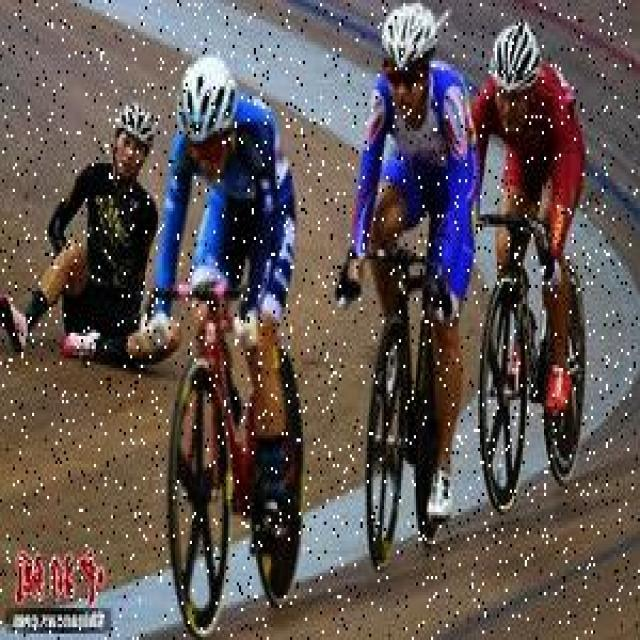fall: (7, 112, 166, 368)
